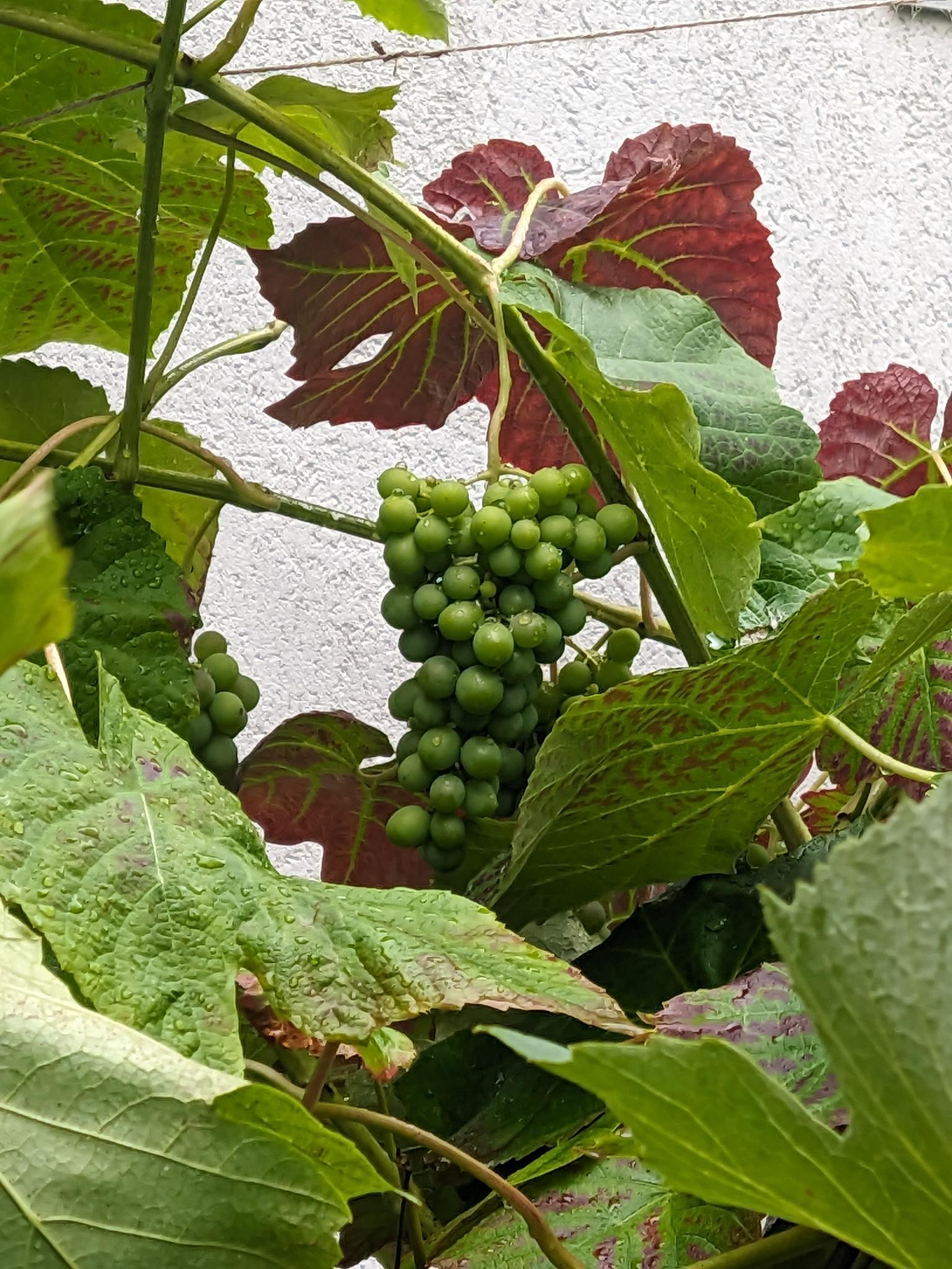Grape Unripe: (376, 455, 639, 870), (191, 630, 262, 774)
